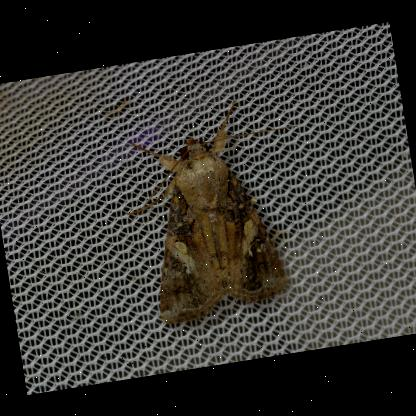Fall Armyworm Moth: (109, 88, 328, 332)
